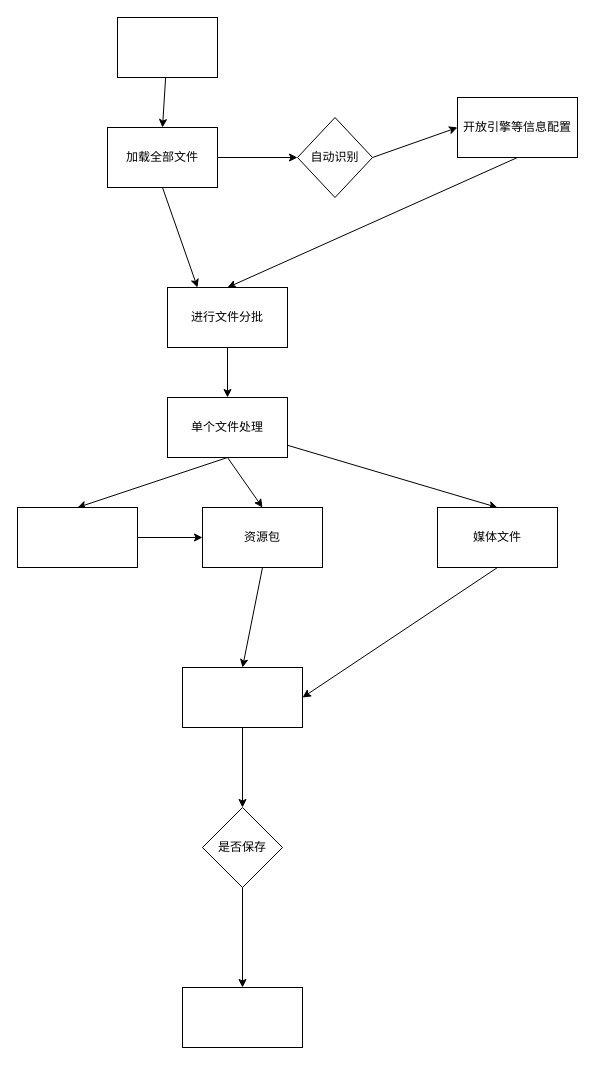
The diagram is 595 pixels wide and 1065 high, and some of its shapes have lost their labels. Each missing label, with the box of its shape:
保存: (182, 986, 302, 1048)
分离每个对象数据: (182, 666, 302, 728)
压缩文件: (16, 506, 138, 568)
选择文件: (116, 16, 218, 78)
